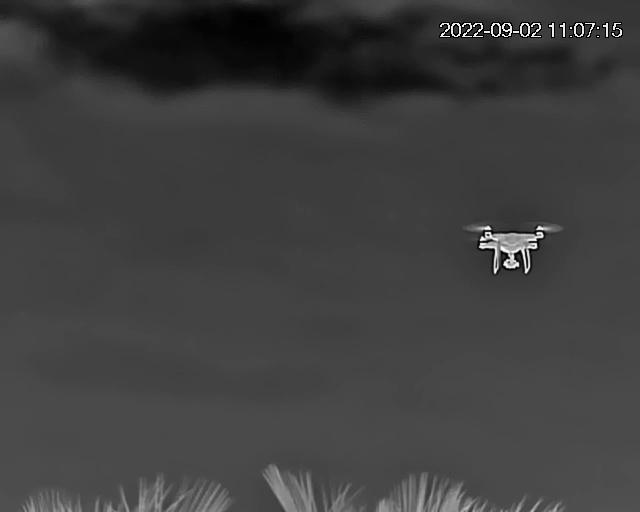DJI-Phantom: (466, 215, 562, 281)
